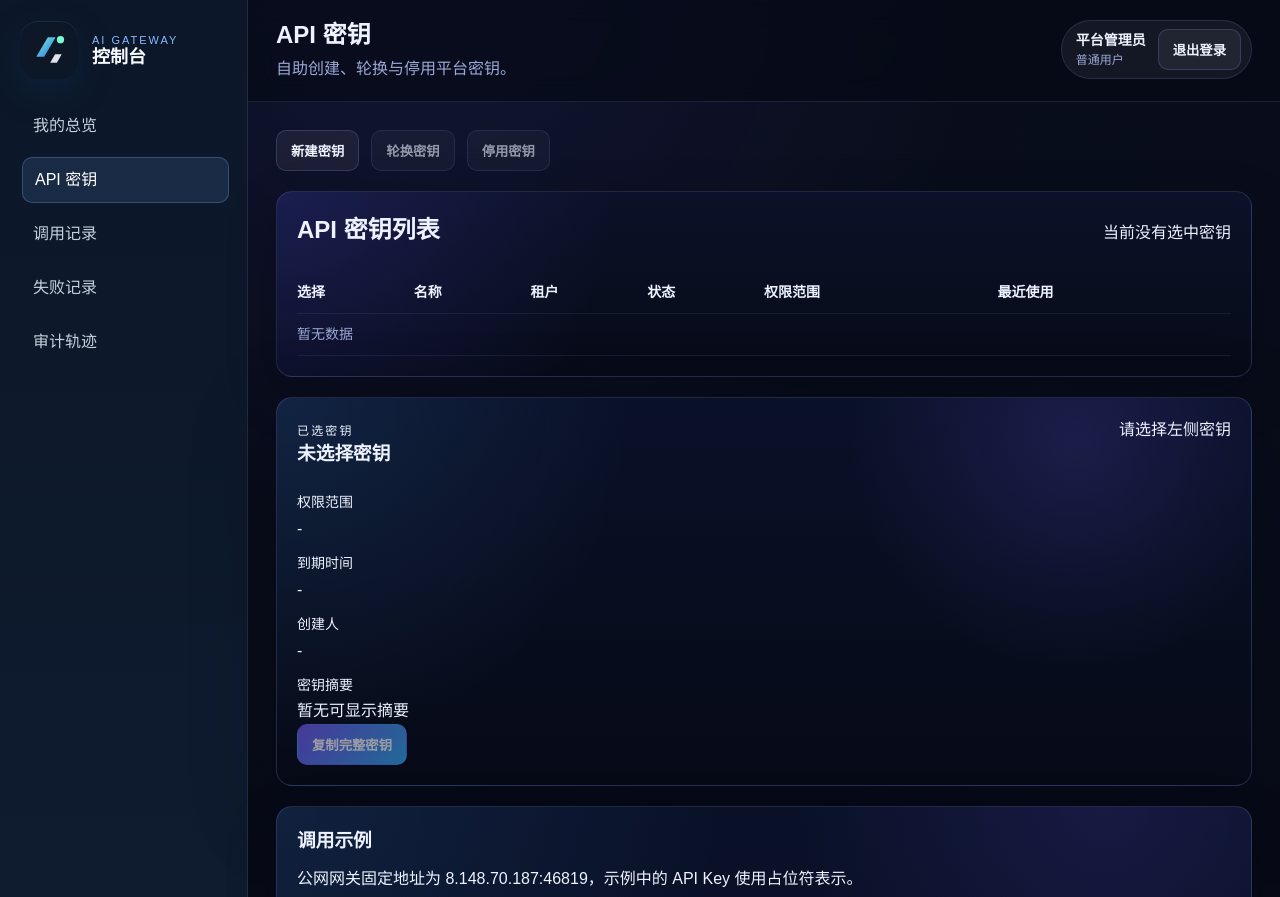
控制台路由 › member 点击新建密钥时会自动滚动到创建面板
Step 1. Click the button "新建密钥" → (318, 150), box left=276, top=130, right=359, bottom=171
(page scrolled)
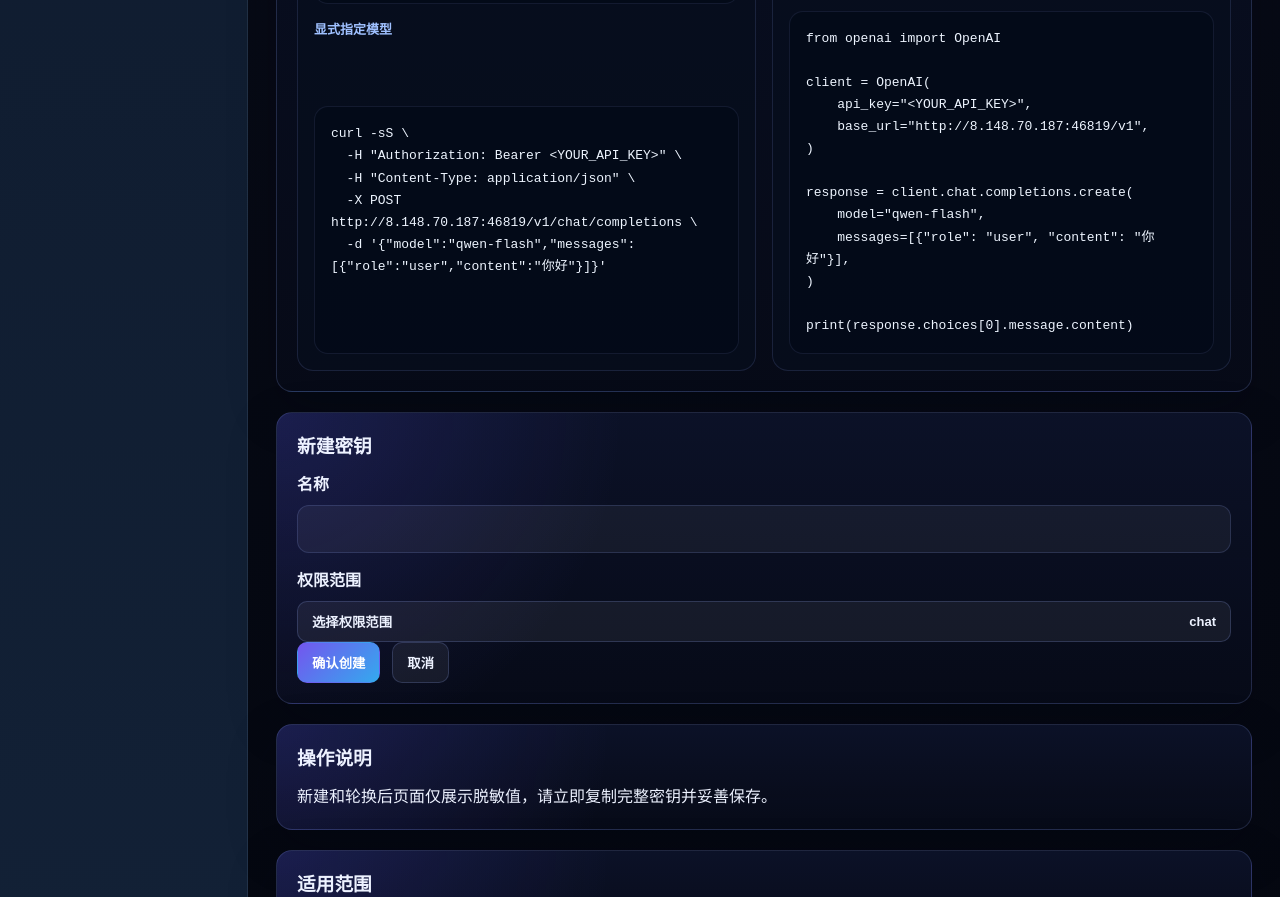
Check: the heading "新建密钥" is shown, box left=297, top=436, right=372, bottom=457
